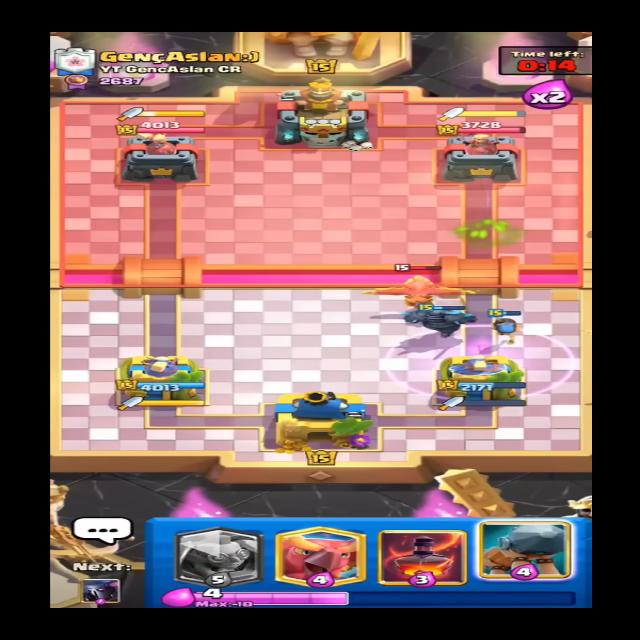evo-zap: (390, 326, 578, 394)
phoenix: (361, 263, 469, 309)
